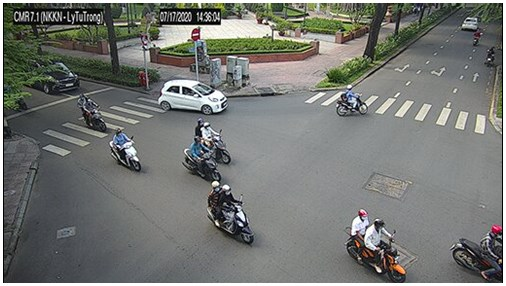xe_hoi: (157, 79, 229, 115), (20, 58, 81, 93)
xe_may: (343, 208, 407, 283), (450, 224, 503, 283), (206, 180, 254, 245), (182, 136, 222, 183), (194, 118, 232, 165), (109, 129, 142, 172), (77, 93, 108, 134), (334, 84, 368, 115), (484, 46, 496, 67), (472, 28, 482, 46)
